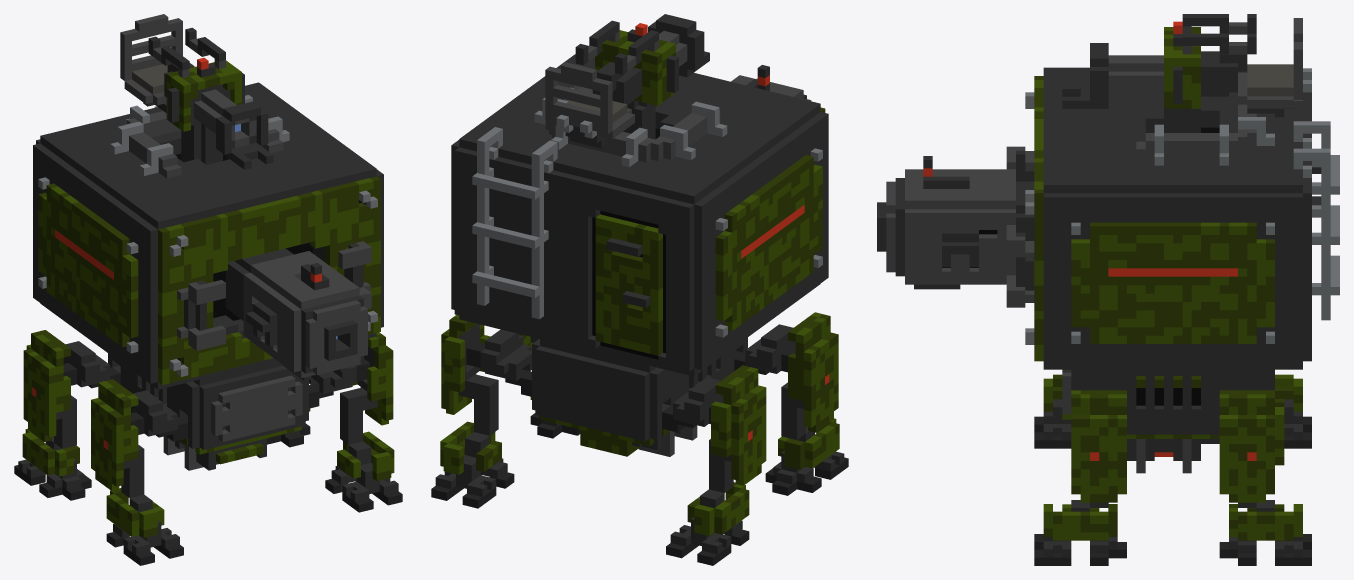
The model's file is QuadrupedTank.glb.
3 renders of one model, left to right at view 1: azimuth 30°, elevation 25°; view 2: azimuth 150°, elevation 25°; view 3: azimuth 270°, elevation 25°, orthographic. The views are drawn at different scales.
Bounding box in the file's own units: 0.057 × 0.084 × 0.075.
